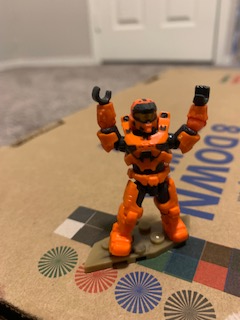spartan: (88, 85, 211, 259)
up: (90, 79, 212, 169)
